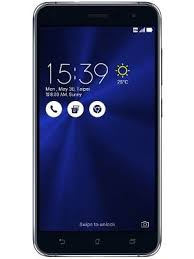asus: (24, 3, 173, 256)
